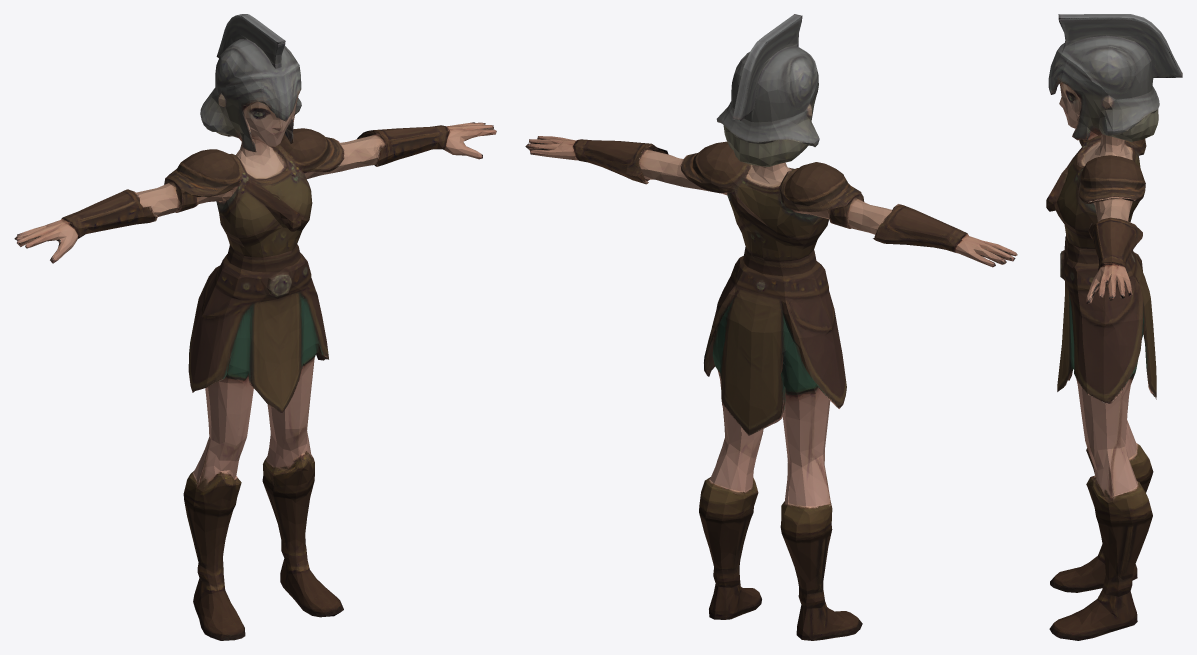
Rendered from sample.glb.
The picture shows the model from 3 angles, left to right: view 1: azimuth 30°, elevation 25°; view 2: azimuth 150°, elevation 25°; view 3: azimuth 270°, elevation 25°; orthographic projection.
Visible parts, largest first — view 1: world; view 2: world; view 3: world.
Boxes of the visible parts, x1,y1,x2,y2 form: world: (14,14,496,640); world: (525,14,1017,640); world: (1046,14,1182,640).
Bounding box in the file's own units: 0.8527 × 0.9994 × 0.2085.
Materials: 1 (1 with a texture image).
